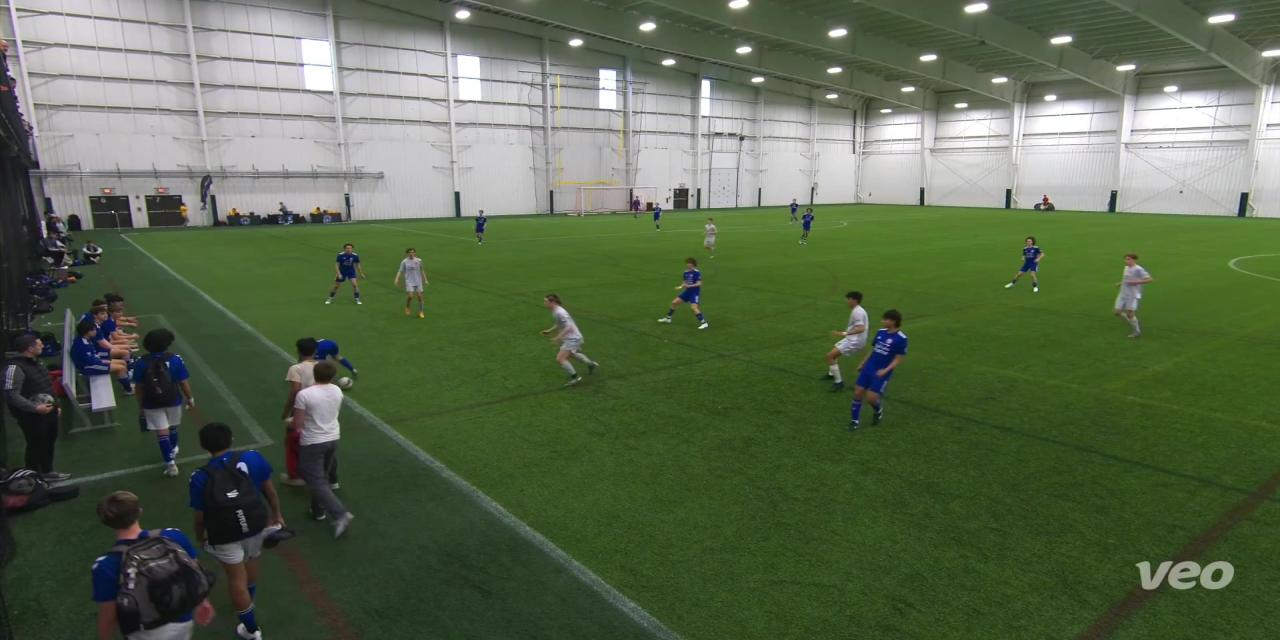goal: (565, 184, 666, 216)
sports ball: (330, 372, 358, 393)
